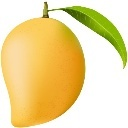mango: (2, 14, 86, 128)
